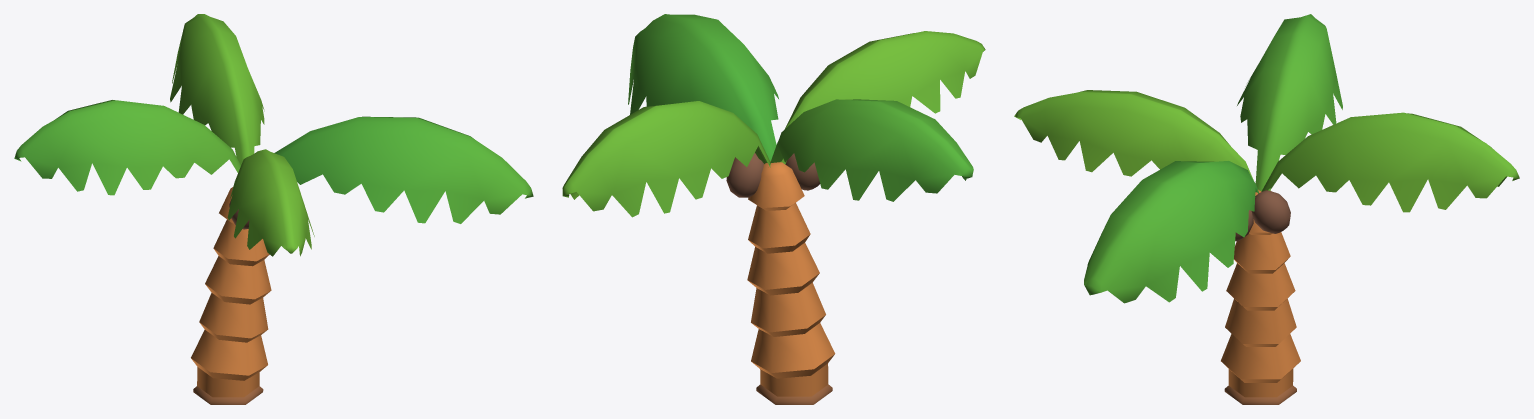
Rendered from Palm_3.FBX.
3 views of the same model, side by side, from view 1: azimuth 30°, elevation 25°; view 2: azimuth 150°, elevation 25°; view 3: azimuth 270°, elevation 25° (orthographic). The views are drawn at different scales.
Visible parts, largest first — view 1: Palm_3_1, Palm_3_4, Palm_3_3, Palm_3_5, Palm_3_2; view 2: Palm_3_1, Palm_3_4, Palm_3_3, Palm_3_2, Palm_3_5; view 3: Palm_3_1, Palm_3_4, Palm_3_3, Palm_3_2, Palm_3_5.
Part boxes in pixels (x1=…): Palm_3_1: x1=14, y1=14, x2=533, y2=256; Palm_3_4: x1=191, y1=292, x2=268, y2=380; Palm_3_3: x1=205, y1=256, x2=271, y2=304; Palm_3_5: x1=193, y1=367, x2=263, y2=404; Palm_3_2: x1=213, y1=219, x2=269, y2=266; Palm_3_1: x1=562, y1=14, x2=985, y2=217; Palm_3_4: x1=751, y1=282, x2=835, y2=378; Palm_3_3: x1=747, y1=243, x2=819, y2=295; Palm_3_2: x1=748, y1=203, x2=810, y2=253; Palm_3_5: x1=756, y1=363, x2=832, y2=404; Palm_3_1: x1=1014, y1=14, x2=1519, y2=303; Palm_3_4: x1=1221, y1=298, x2=1300, y2=382; Palm_3_3: x1=1226, y1=263, x2=1295, y2=310; Palm_3_2: x1=1234, y1=232, x2=1290, y2=273; Palm_3_5: x1=1224, y1=369, x2=1296, y2=404.
Bounding box in the file's own units: 515 × 360 × 530.
Materials: 1 (1 with a texture image).
